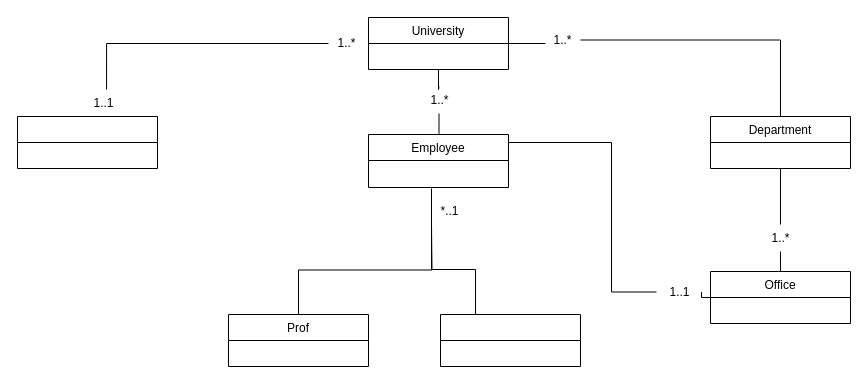
The diagram is 868 pixels wide and 384 high, and some of its shapes have lost their labels. Each missing label, with the box of its shape:
Class: (16, 116, 158, 168)
Officer: (440, 314, 580, 366)
